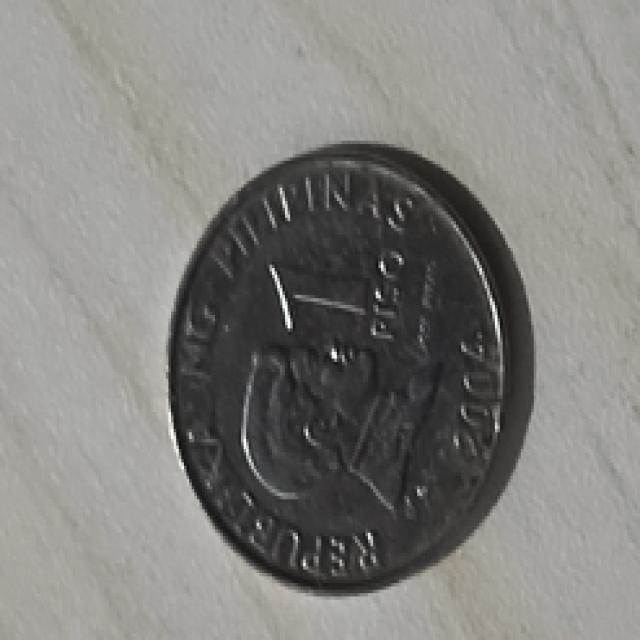1_peso: (168, 144, 531, 593)
